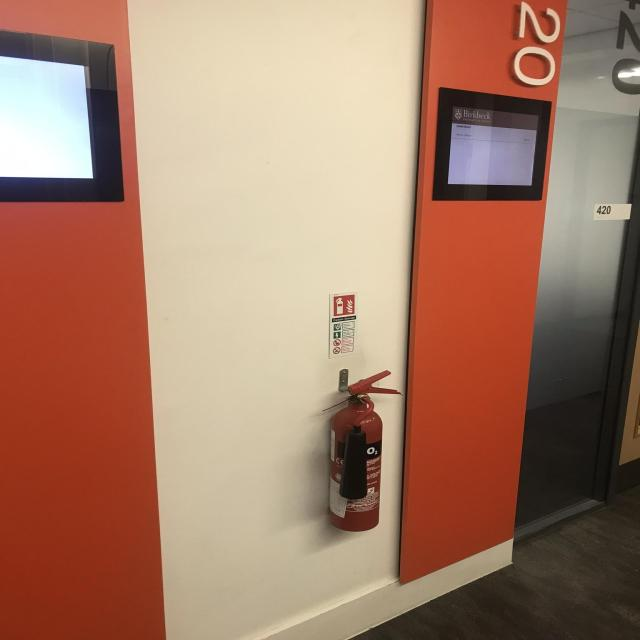fire_extinguisher: (318, 368, 404, 534)
